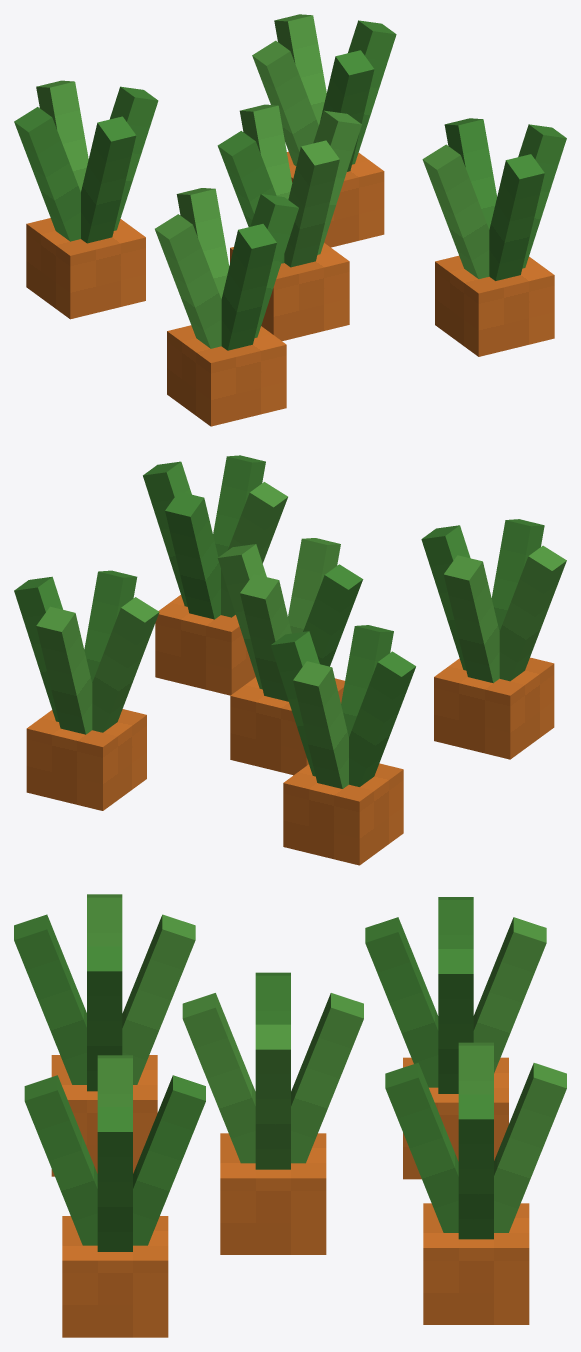
Rendered from crop_carotte_3.glb.
The picture shows the model from 3 angles, top to bottom: view 1: azimuth 30°, elevation 25°; view 2: azimuth 150°, elevation 25°; view 3: azimuth 270°, elevation 25°; orthographic projection. The views are drawn at different scales.
Parts seen in each view (by area): view 1: Crop; view 2: Crop; view 3: Crop.
Boxes of the visible parts, x1,y1,x2,y2 form: Crop: (14, 14, 566, 426); Crop: (14, 455, 566, 865); Crop: (14, 894, 566, 1337).
Size of the model in its own units: 0.7953 by 0.363 by 0.7826.
Materials: 3 (3 with a texture image).
